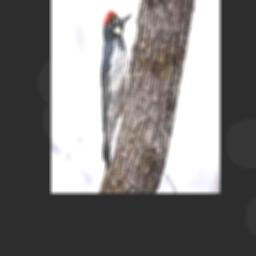Woodpecker: (101, 10, 132, 172)
